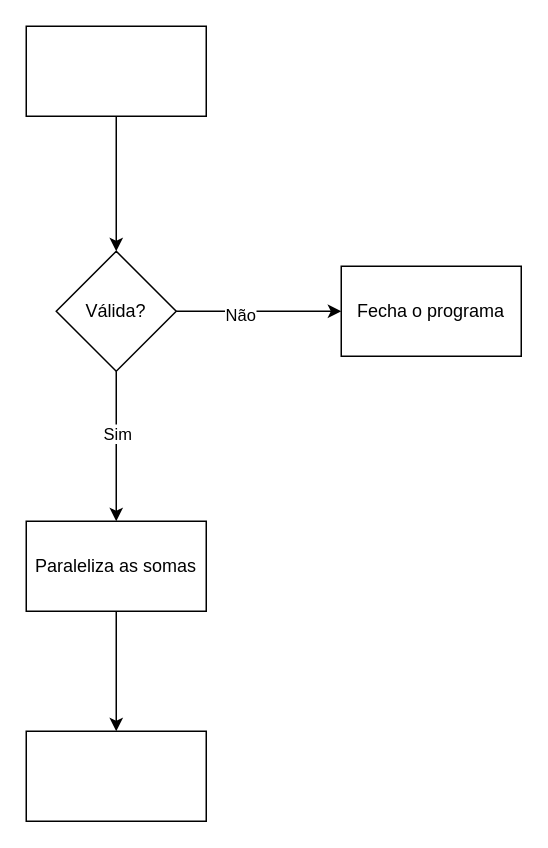
Image size: 548x848. Some labels were removed from this diagram. The centre of each missing label's shape, as x and y in pixels:
"Entrada" goes at [115,70].
"Printa os resultados e finaliza" goes at [115,775].
